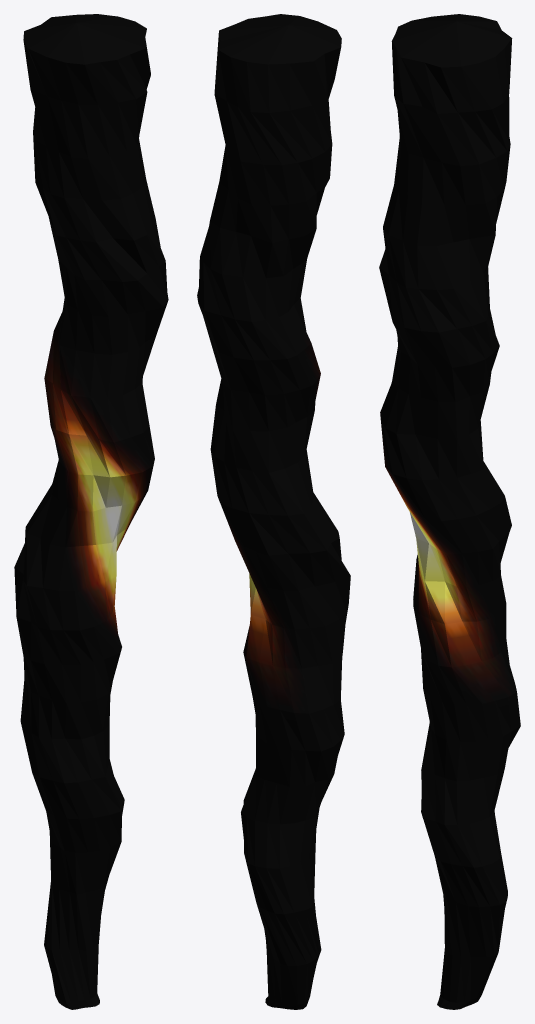
File: 0368_longjuan3.glb
3 renders of one model, left to right at view 1: azimuth 30°, elevation 25°; view 2: azimuth 210°, elevation 25°; view 3: azimuth 270°, elevation 25°, orthographic.
Bounding box in the file's own units: 0.3025 × 2.2 × 0.2889.
1 material, 1 textured.
